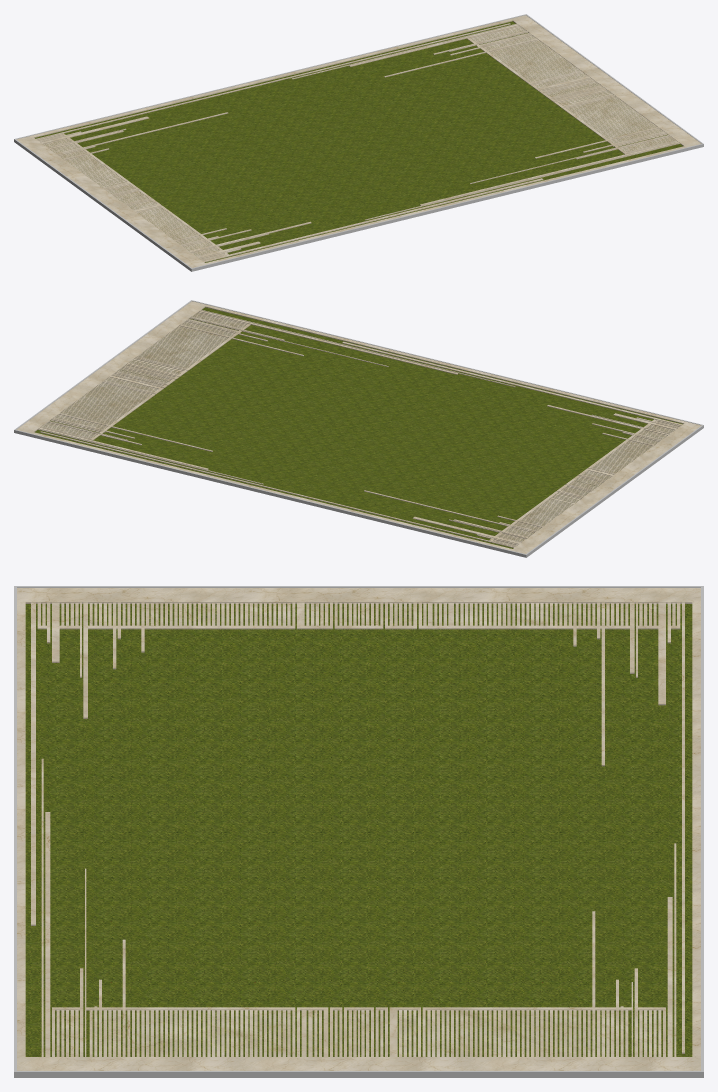
3 views of the same model, one above another, from view 1: azimuth 30°, elevation 25°; view 2: azimuth 150°, elevation 25°; view 3: azimuth 270°, elevation 25° (orthographic). The views are drawn at different scales.
Parts seen in each view (by area): view 1: M_F_301_d_20x12; view 2: M_F_301_d_20x12; view 3: M_F_301_d_20x12.
Boxes of the visible parts, bbox=[...] form: M_F_301_d_20x12: bbox=[14, 14, 703, 271]; M_F_301_d_20x12: bbox=[14, 300, 703, 557]; M_F_301_d_20x12: bbox=[14, 586, 703, 1077].
Bounding box in the file's own units: 20 × 0.11 × 12.
